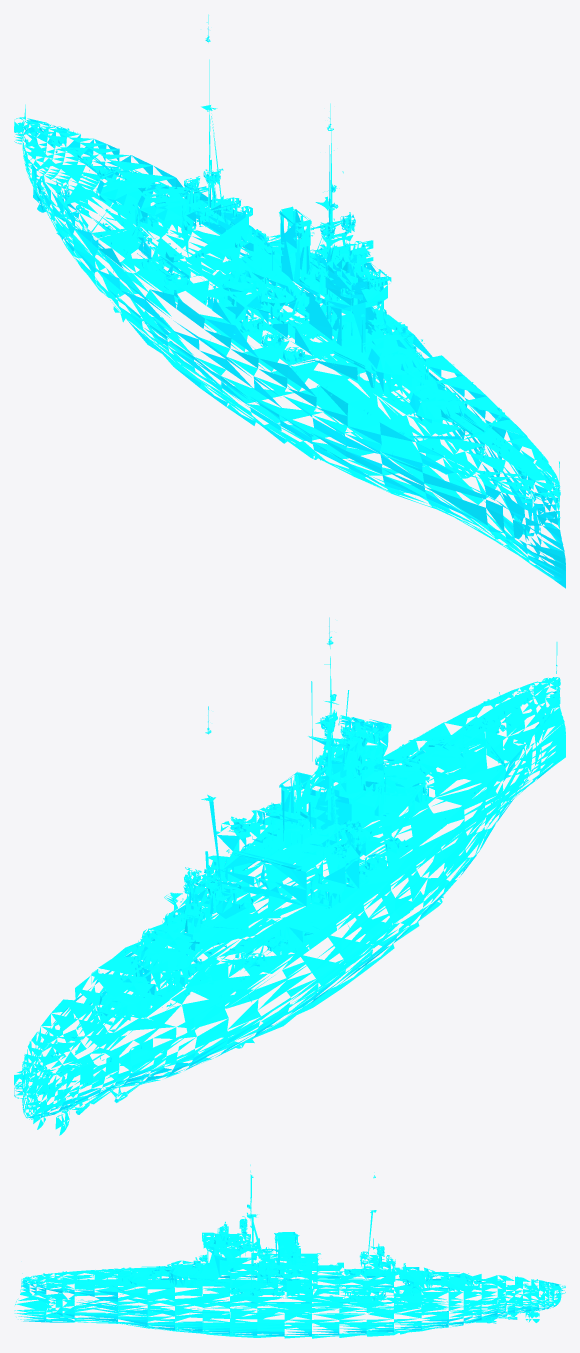
Rendered from PBSB106.glb.
3 views of the same model, one above another, from view 1: azimuth 30°, elevation 25°; view 2: azimuth 150°, elevation 25°; view 3: azimuth 270°, elevation 25° (orthographic). The views are drawn at different scales.
Visible parts, largest first — view 1: hull_body; view 2: hull_body; view 3: hull_body.
Boxes of the visible parts, x1,y1,x2,y2 form: hull_body: [14, 14, 565, 588]; hull_body: [14, 617, 565, 1135]; hull_body: [14, 1164, 565, 1338].
Bounding box in the file's own units: 2.13 × 4.13 × 13.12.
